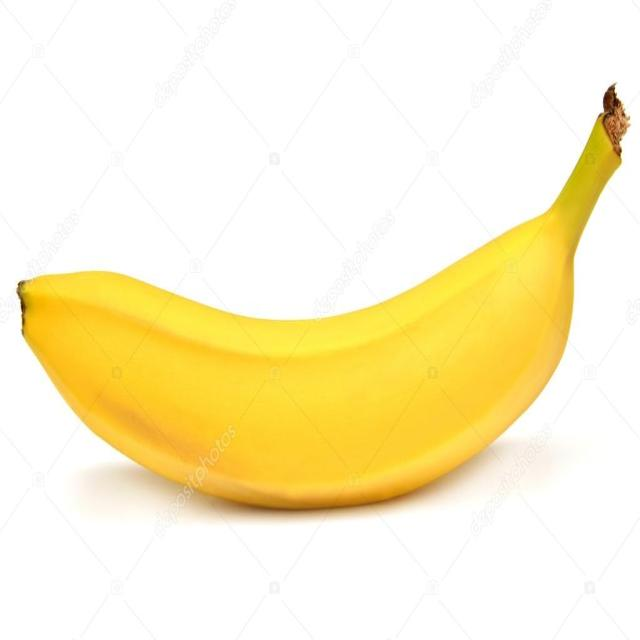non_orange: (16, 85, 628, 513)
